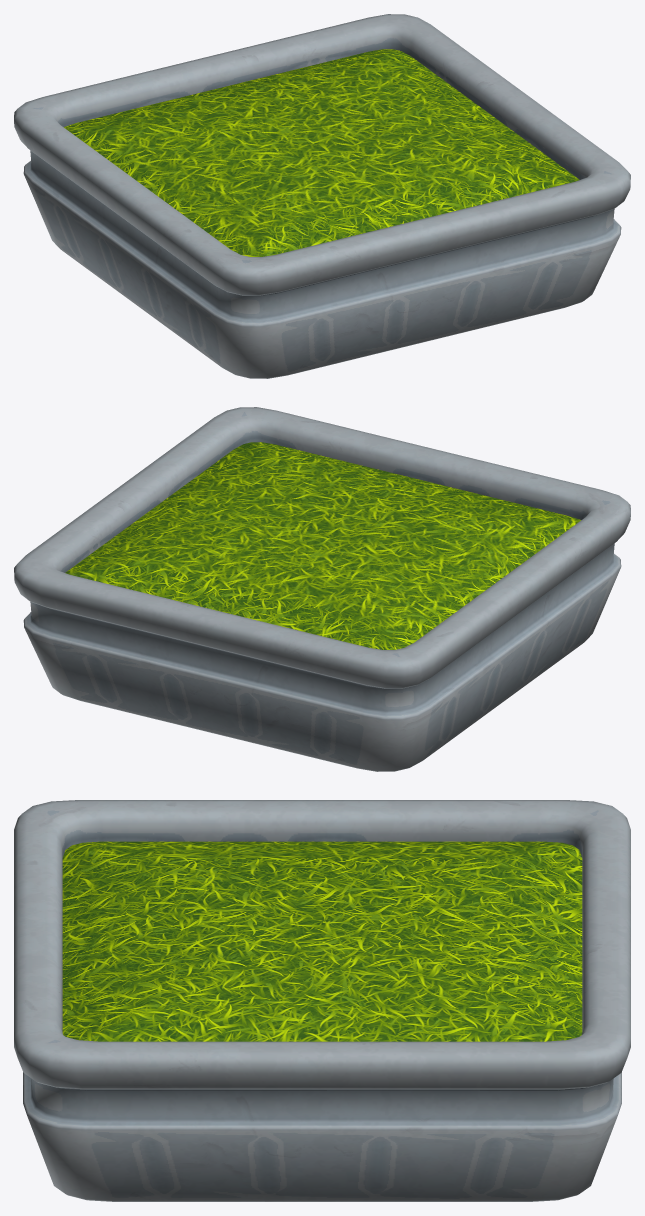
The model's file is StreetPlanter01_2.FBX.
3 views of the same model, one above another, from view 1: azimuth 30°, elevation 25°; view 2: azimuth 150°, elevation 25°; view 3: azimuth 270°, elevation 25° (orthographic). The views are drawn at different scales.
Visible parts, largest first — view 1: StreetPlanter01_2; view 2: StreetPlanter01_2; view 3: StreetPlanter01_2.
Part boxes in pixels (left/top/right/bottom): StreetPlanter01_2: left=14, top=14, right=630, bottom=378; StreetPlanter01_2: left=14, top=407, right=630, bottom=771; StreetPlanter01_2: left=14, top=800, right=630, bottom=1201.
Size of what is drawn, in the model's own units: 1.48 by 0.4336 by 1.48.
